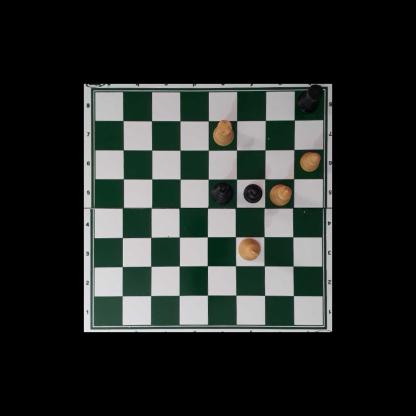black-king: (210, 182, 234, 206)
black-pawn: (243, 182, 262, 203)
black-rook: (296, 86, 323, 112)
white-bishop: (269, 183, 293, 206)
white-king: (237, 237, 261, 261)
white-pawn: (299, 151, 321, 172)
white-rook: (213, 121, 235, 146)
